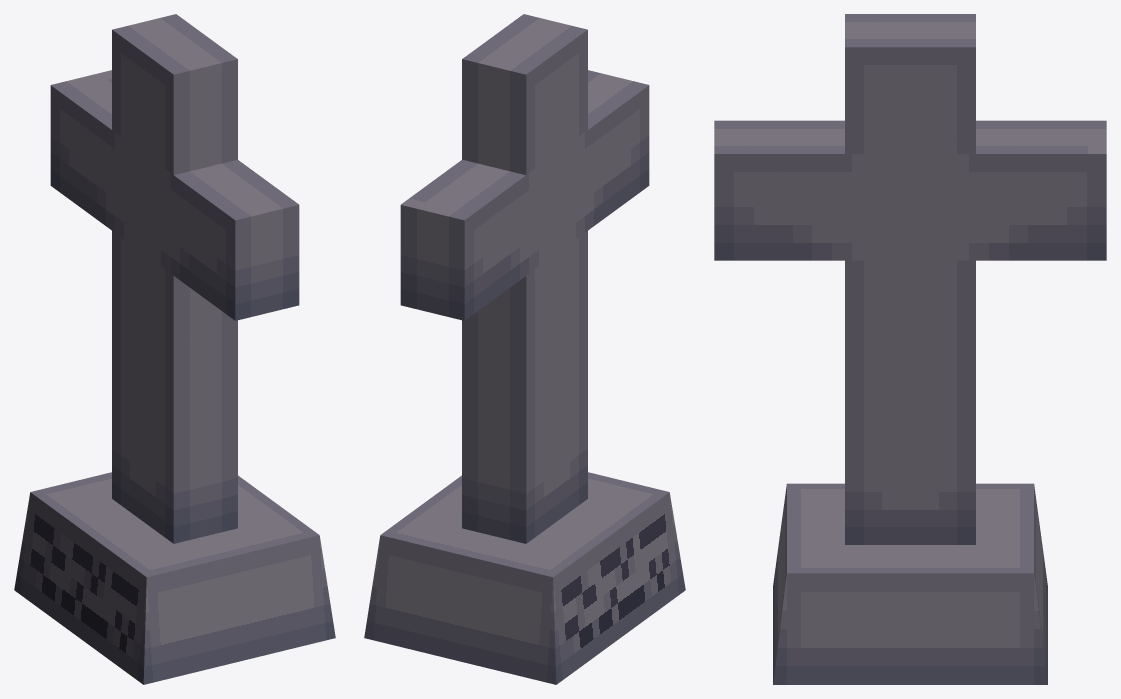
File: grave_cross.obj
The picture shows the model from 3 angles, left to right: view 1: azimuth 30°, elevation 25°; view 2: azimuth 150°, elevation 25°; view 3: azimuth 270°, elevation 25°; orthographic projection. The views are drawn at different scales.
Parts seen in each view (by area): view 1: cross, base; view 2: cross, base; view 3: cross, base.
Part boxes in pixels (left/top/right/bottom): cross: left=50, top=14, right=299, bottom=543; base: left=14, top=472, right=335, bottom=684; cross: left=400, top=14, right=649, bottom=543; base: left=364, top=472, right=685, bottom=684; cross: left=714, top=14, right=1106, bottom=544; base: left=773, top=483, right=1047, bottom=684.
Bounding box in the file's own units: 0.75 × 2.12 × 1.25.
2 materials, 2 textured.
